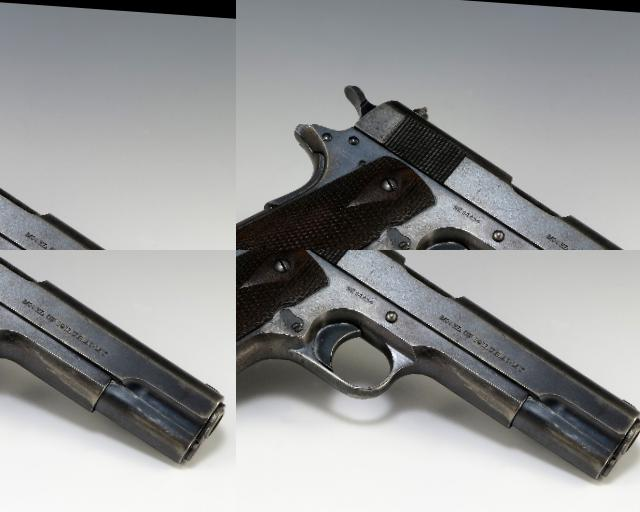handgun: (236, 250, 640, 489), (236, 0, 284, 55), (0, 250, 13, 264), (0, 28, 8, 43)
